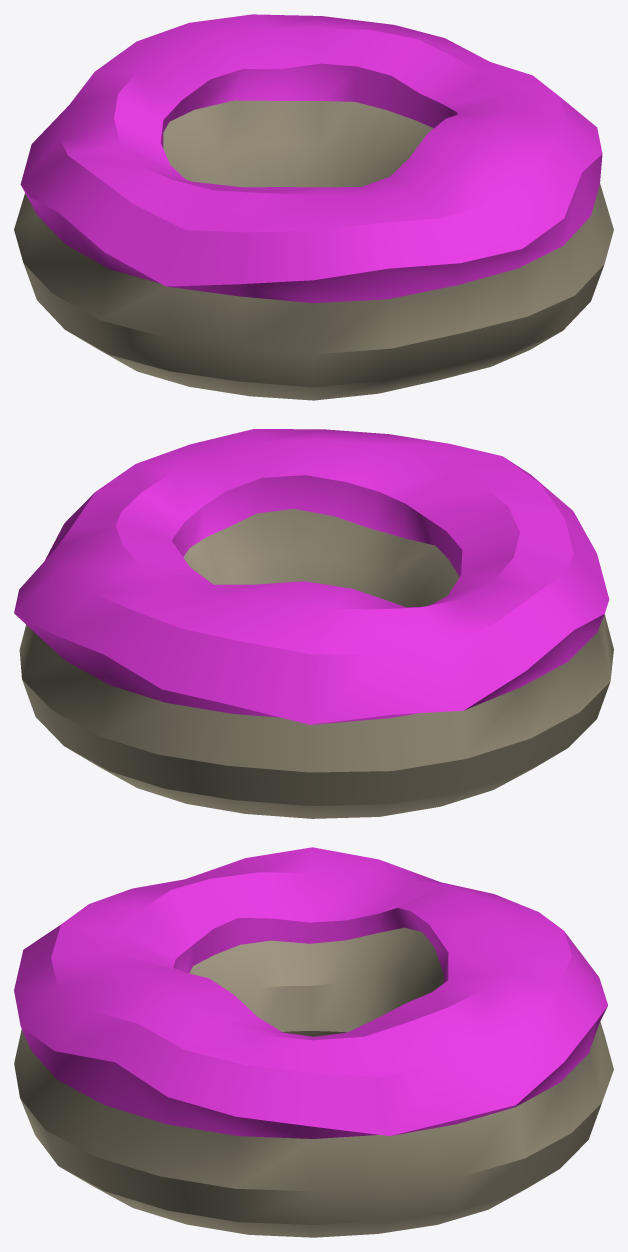
Rendered from donut.glb.
3 views of the same model, one above another, from view 1: azimuth 30°, elevation 25°; view 2: azimuth 150°, elevation 25°; view 3: azimuth 270°, elevation 25° (orthographic).
Parts seen in each view (by area): view 1: donut.001; view 2: donut.001; view 3: donut.001.
Part boxes in pixels (x1=…): donut.001: x1=14, y1=14, x2=613, y2=400; donut.001: x1=14, y1=429, x2=613, y2=818; donut.001: x1=14, y1=847, x2=613, y2=1237.
Size of the model in its own units: 0.2091 by 0.08 by 0.2103.
